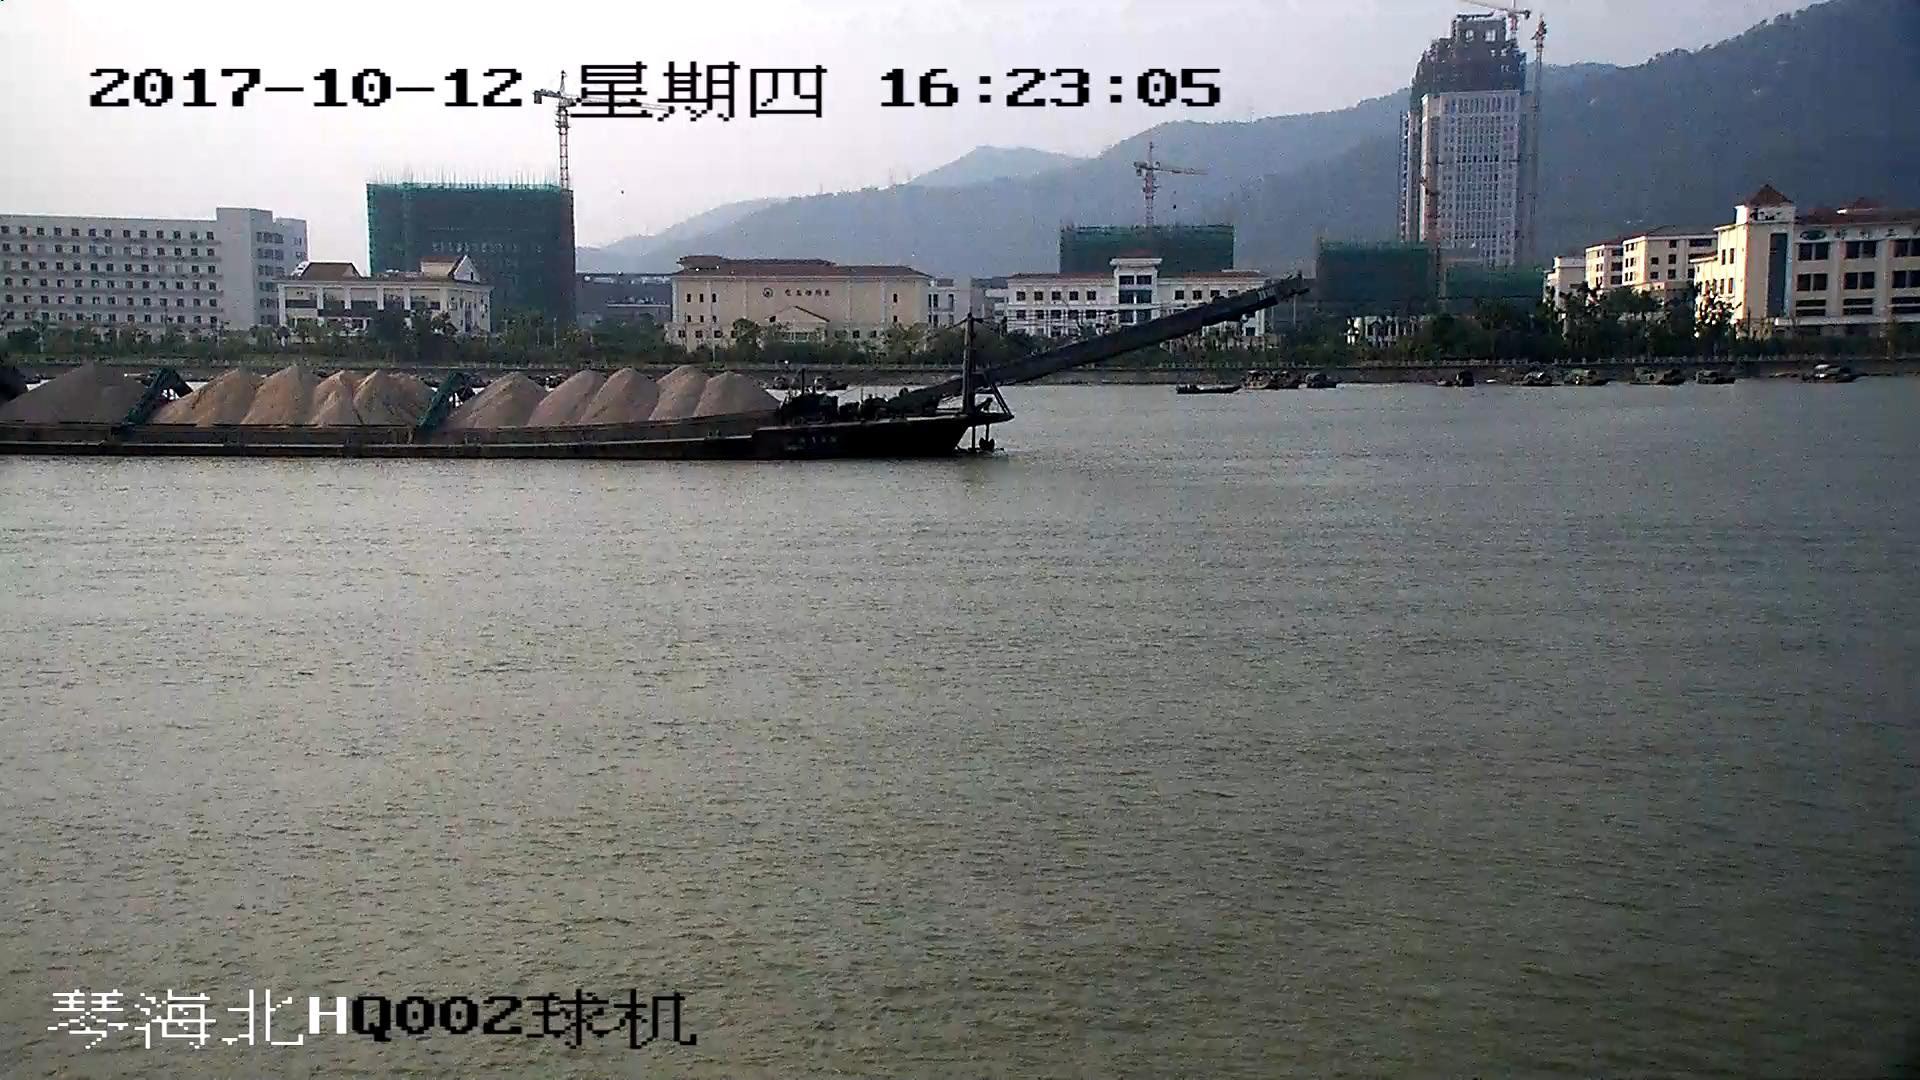ore carrier: (1, 279, 1298, 452)
